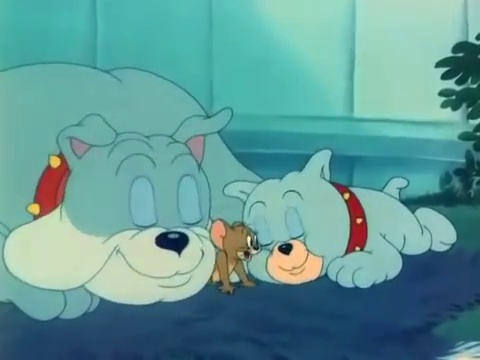spike: (2, 109, 233, 305)
